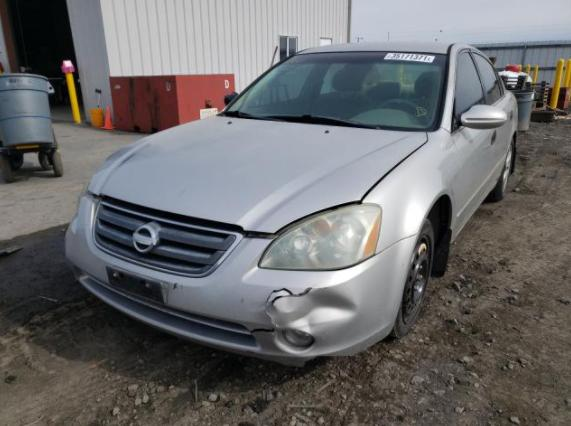Back-door: (473, 51, 514, 179)
Back-wheel: (484, 142, 514, 203)
Back-window: (474, 53, 500, 104)
Fender: (361, 126, 463, 255)
Front-bumper: (65, 189, 420, 368)
Front-door: (450, 49, 507, 228)
Front-wheel: (387, 220, 435, 339)
Front-window: (456, 52, 484, 116)
Grille: (93, 202, 236, 273)
Headlight: (259, 203, 382, 270)
Hood: (86, 116, 428, 234)
Mirror: (455, 104, 506, 130)
Quarter-panel: (506, 90, 518, 145)
Rocker-panel: (450, 177, 500, 245)
Roof: (297, 41, 463, 55)
Windshield: (219, 52, 448, 131)
